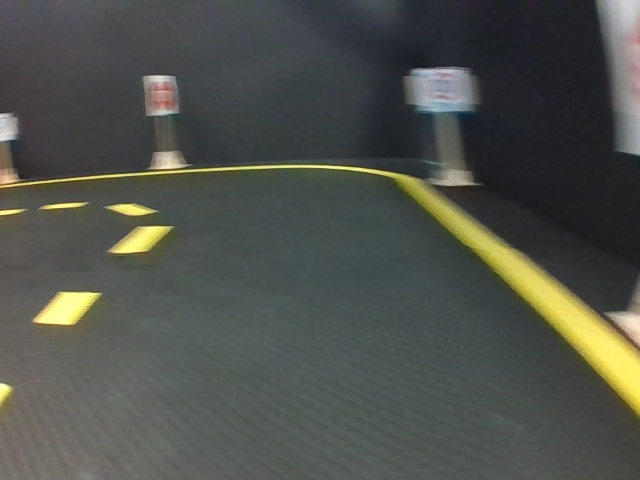30: (416, 70, 475, 112)
stop: (147, 75, 176, 115)
